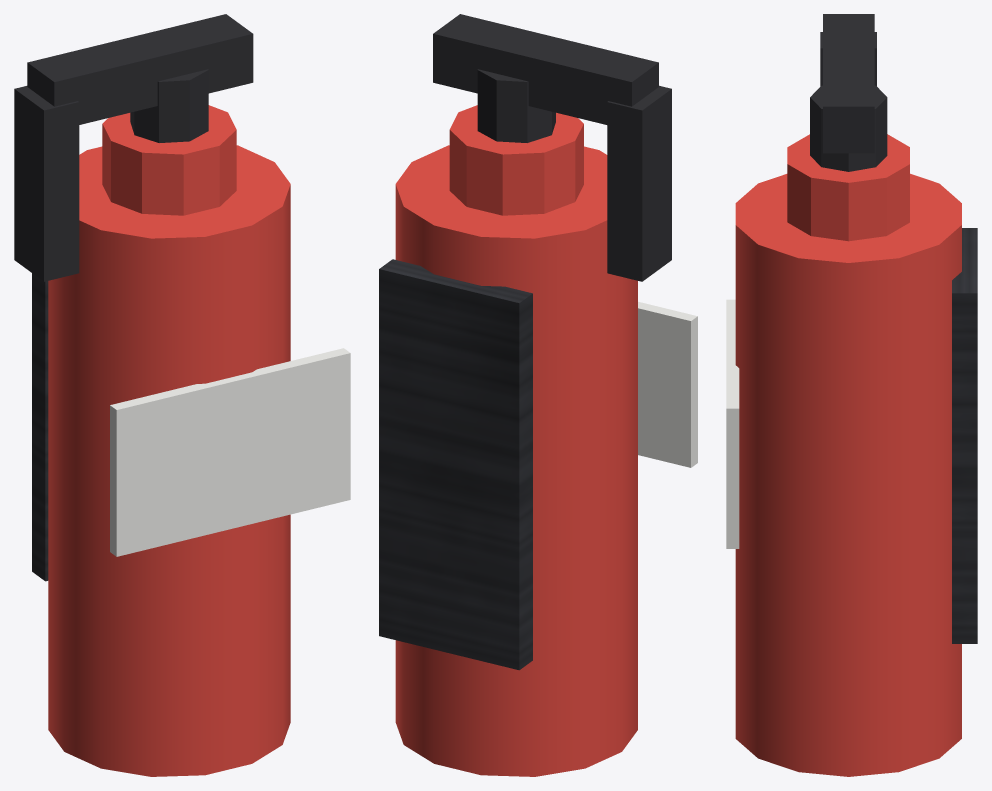
Rendered from Extinguisher.fbx.
3 views of the same model, side by side, from view 1: azimuth 30°, elevation 25°; view 2: azimuth 150°, elevation 25°; view 3: azimuth 270°, elevation 25° (orthographic). The views are drawn at different scales.
Parts seen in each view (by area): view 1: Extinguisher; view 2: Extinguisher; view 3: Extinguisher.
Boxes of the visible parts, <box> form: Extinguisher: <box>14,14,350,776</box>; Extinguisher: <box>379,14,697,776</box>; Extinguisher: <box>726,14,977,776</box>.
Size of the model in its own units: 0.22 by 0.56 by 0.195.
Materials: 4 (1 with a texture image).
